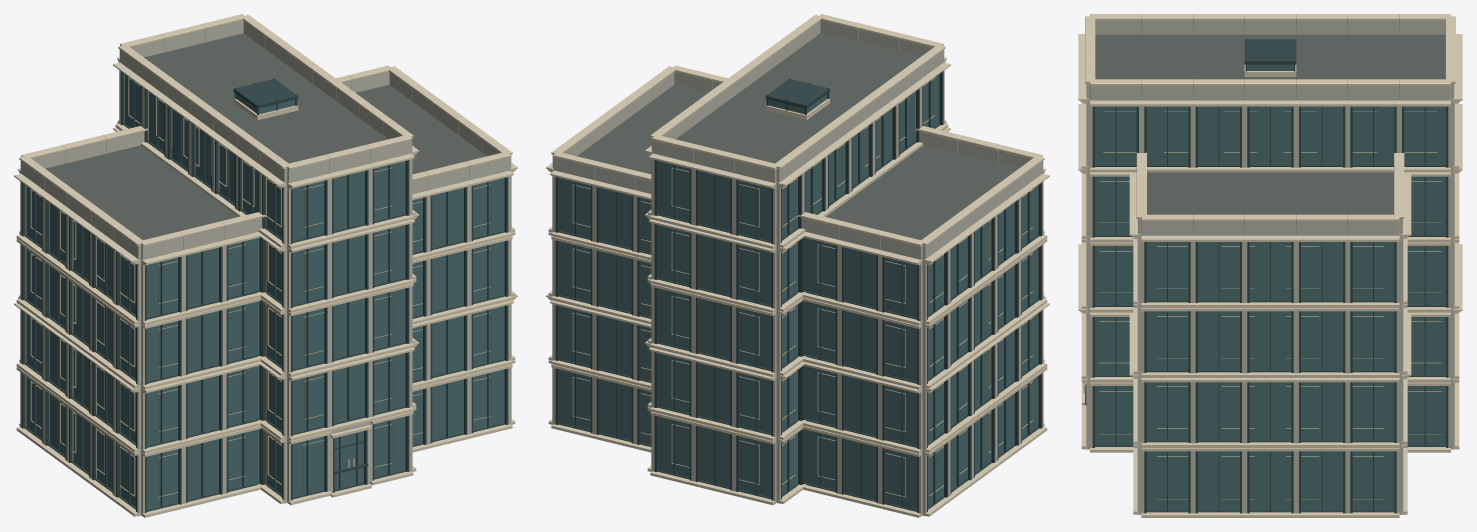
File: atrium-campus.glb
The picture shows the model from 3 angles, left to right: view 1: azimuth 30°, elevation 25°; view 2: azimuth 150°, elevation 25°; view 3: azimuth 270°, elevation 25°; orthographic projection. The views are drawn at different scales.
Parts seen in each view (by area): view 1: Roof main.021, Roof left.005, Foundation.040, Roof right.005, main/north/0/1667/glass.007, left/north/2/1667/glass.003, left/north/0/1667/glass.005, main/north/2/1667/glass.006, main/north/3/1667/glass.002, left/north/3/1667/glass.002, main/north/4/1667/glass.002, main/north/1/1667/glass.007 (+106 smaller); view 2: Roof main.021, Roof left.005, Foundation.040, Roof right.005, main/south/0/1667/glass.009, left/south/2/1667/glass.001, left/south/0/1667/glass.002, main/south/2/1667/glass.008, main/south/3/1667/glass.003, left/south/3/1667/glass.001, main/south/4/1667/glass.003, main/south/1/1667/glass.009 (+105 smaller); view 3: Roof main.021, Roof right.005, right/east/0/3000/glass.003, right/east/0/7000/glass.003, right/east/2/3000/glass.002, right/east/2/7000/glass.002, right/east/0/1000/glass.003, right/east/0/9000/glass.003, right/east/2/1000/glass.002, right/east/2/9000/glass.002, right/east/0/5000/glass.003, right/east/2/5000/glass.002 (+99 smaller).
Boxes of the visible parts, x1,y1,x2,y2 form: Roof main.021: (144,33,387,182); Roof left.005: (45,145,237,259); Foundation.040: (30,77,491,497); Roof right.005: (356,85,486,174); main/north/0/1667/glass.007: (292,436,324,497); left/north/2/1667/glass.003: (146,321,178,381); left/north/0/1667/glass.005: (146,449,178,509); main/north/2/1667/glass.006: (292,308,324,369); main/north/3/1667/glass.002: (292,245,324,305); left/north/3/1667/glass.002: (146,257,178,317); main/north/4/1667/glass.002: (292,181,324,240); main/north/1/1667/glass.007: (292,373,324,433); Roof main.021: (676,33,919,182); Roof left.005: (826,145,1018,259); Foundation.040: (572,77,1033,497); Roof right.005: (577,85,707,174); main/south/0/1667/glass.009: (739,436,771,497); left/south/2/1667/glass.001: (885,321,917,381); left/south/0/1667/glass.002: (885,449,917,509); main/south/2/1667/glass.008: (739,308,771,369); main/south/3/1667/glass.003: (739,245,771,305); left/south/3/1667/glass.001: (885,257,917,317); main/south/4/1667/glass.003: (739,181,771,240); main/south/1/1667/glass.009: (739,373,771,433); Roof main.021: (1095,35,1445,79); Roof right.005: (1147,172,1393,214); right/east/0/3000/glass.003: (1301,451,1342,510); right/east/0/7000/glass.003: (1198,451,1239,510); right/east/2/3000/glass.002: (1301,311,1342,370); right/east/2/7000/glass.002: (1198,311,1239,370); right/east/0/1000/glass.003: (1352,451,1394,510); right/east/0/9000/glass.003: (1146,451,1188,510); right/east/2/1000/glass.002: (1352,311,1394,370); right/east/2/9000/glass.002: (1146,311,1188,370); right/east/0/5000/glass.003: (1249,451,1291,510); right/east/2/5000/glass.002: (1249,311,1291,370).
Size of the model in its own units: 18.92 by 15.87 by 14.92.
